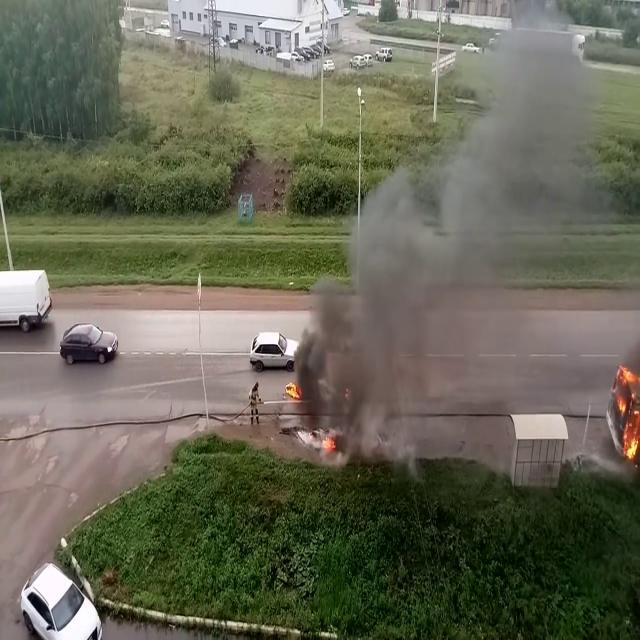Fire: (610, 361, 640, 466), (282, 373, 302, 403)
Smoke: (299, 8, 638, 468)
